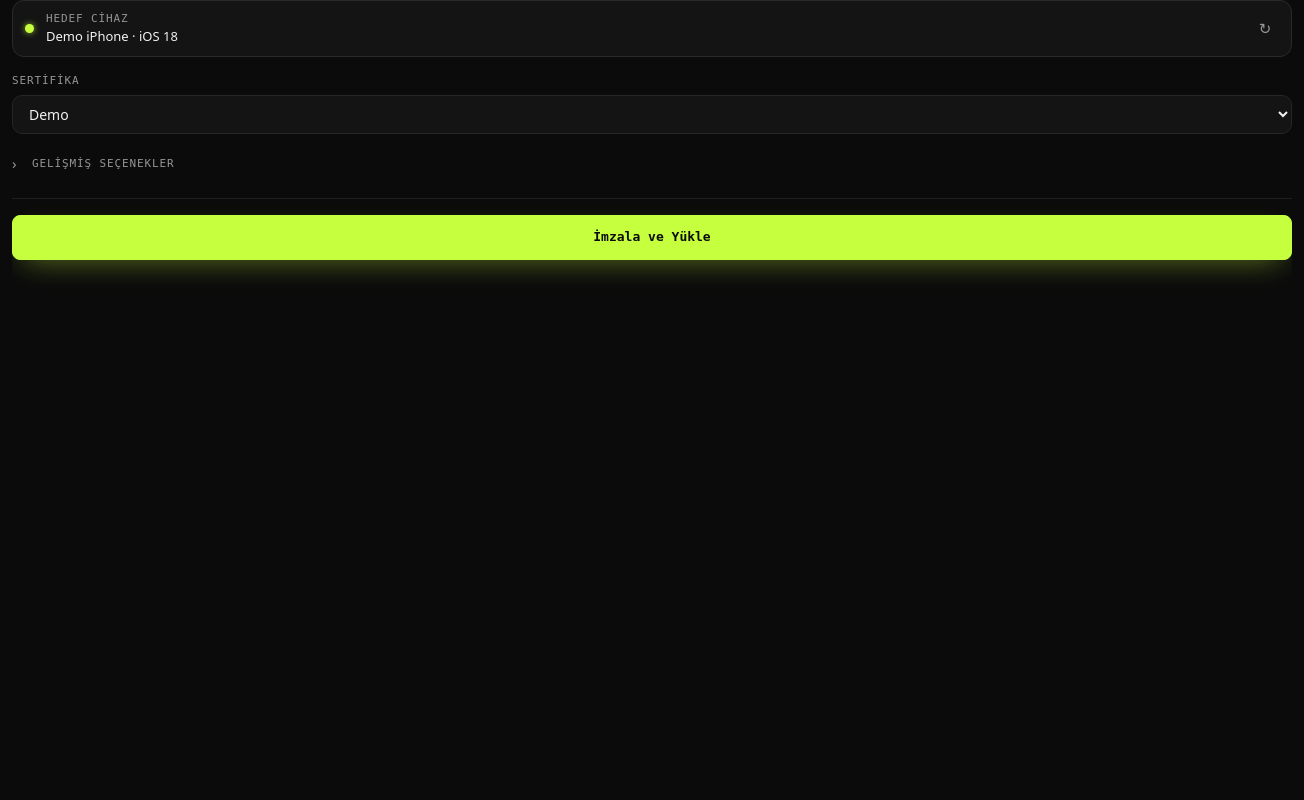
Test: changing bundle ID invalidates the previous successful validation
Expected: the button "İmzala ve Yükle" is enabled, left=12, top=215, right=1292, bottom=260
Step 1. Click the button "› Gelişmiş seçenekler" → (103, 163), box left=12, top=150, right=1292, bottom=178
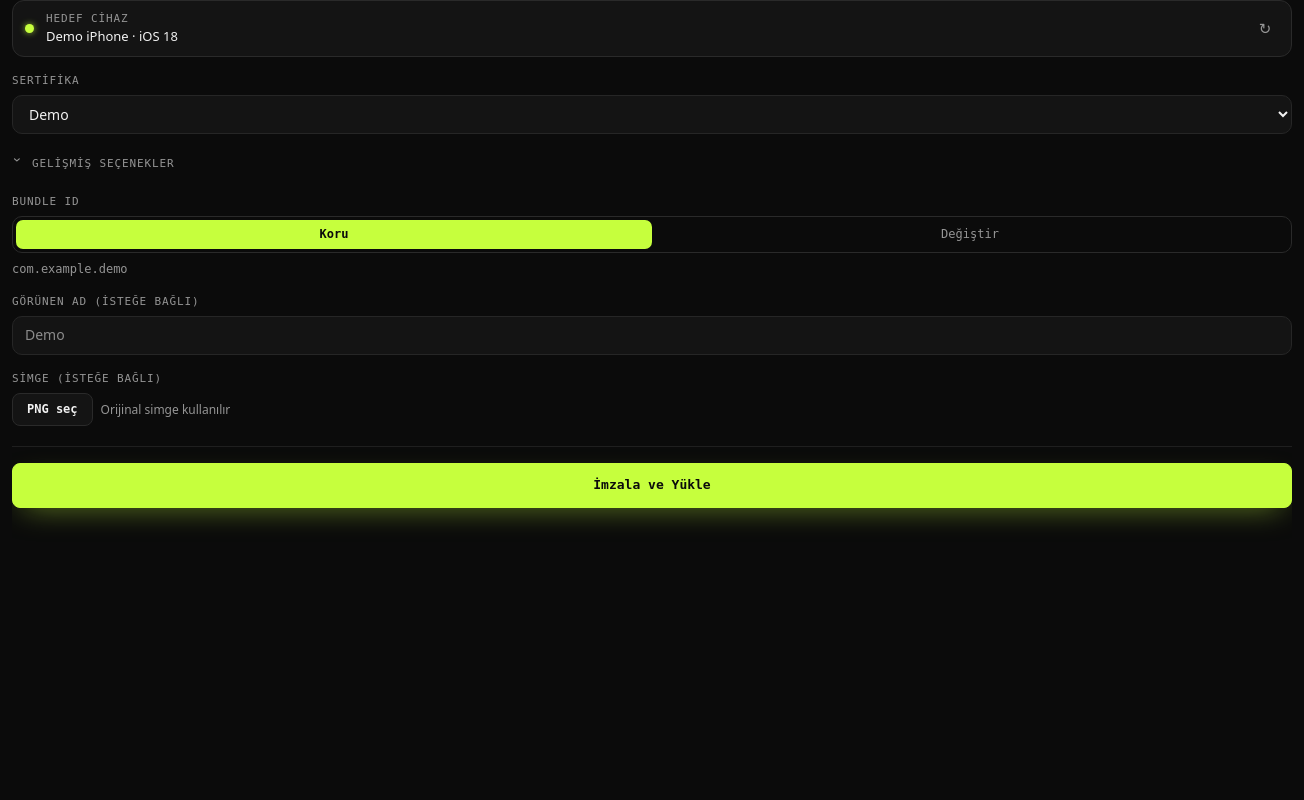
Step 2. Click the radio button labelled "Değiştir" → (970, 234), box left=941, top=227, right=999, bottom=241
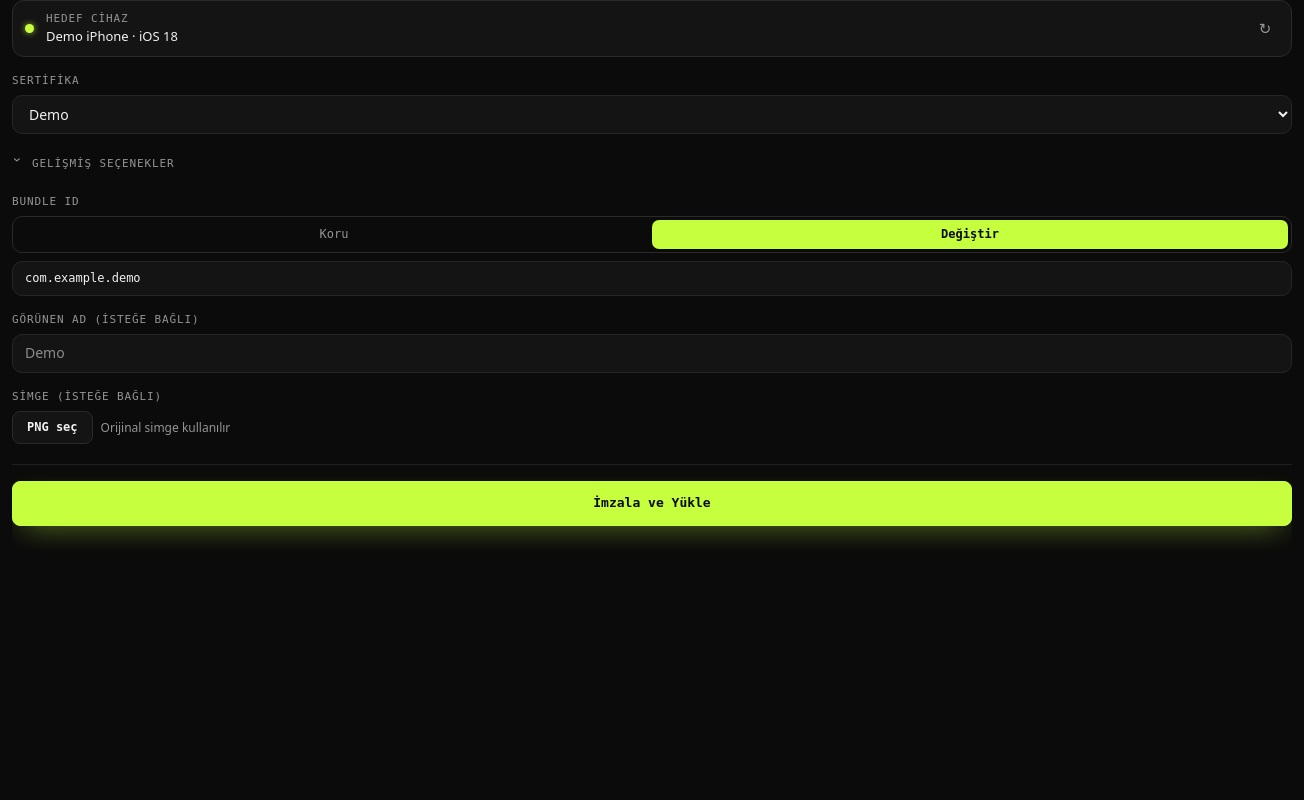
Step 3. Replace the text in the field named "Yeni bundle ID" with "com.example.other" → (652, 279), box left=12, top=261, right=1292, bottom=296
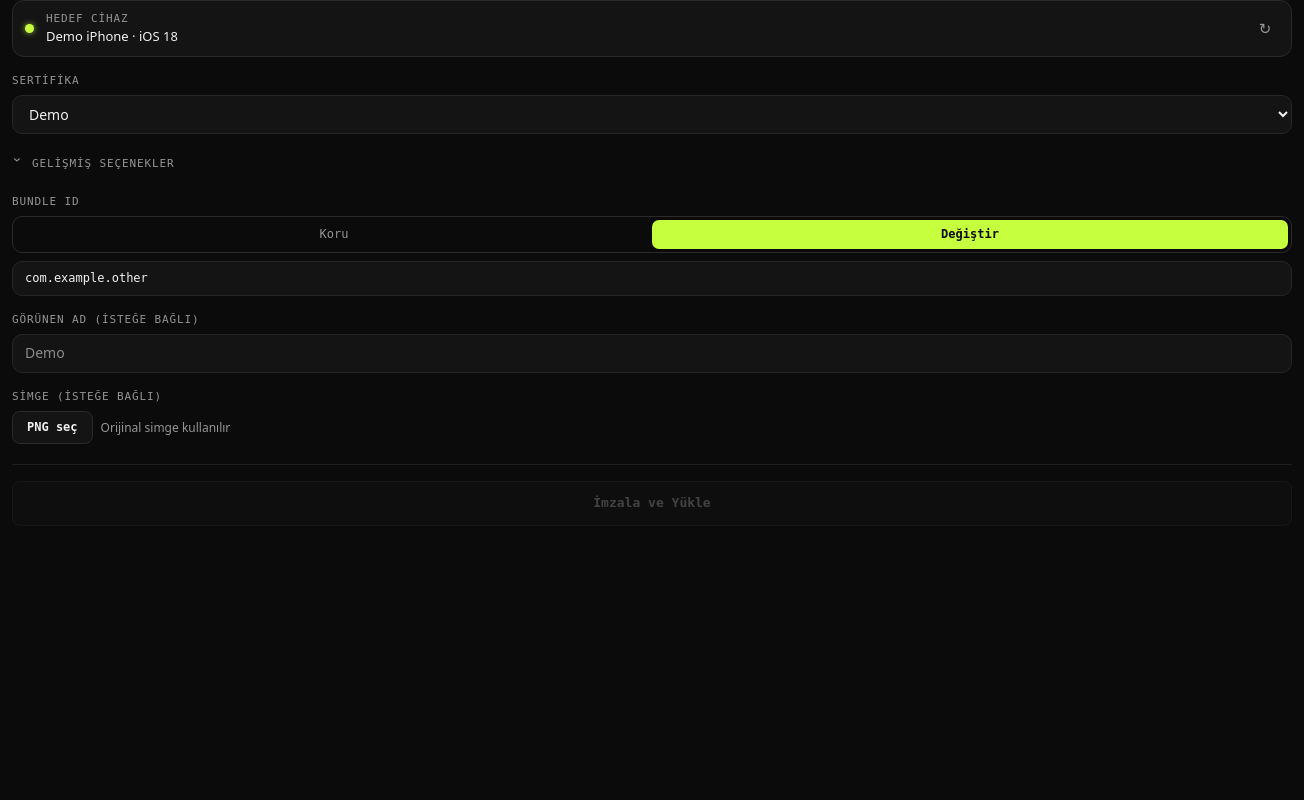
Expected: the button "İmzala ve Yükle" is disabled, left=12, top=481, right=1292, bottom=526
